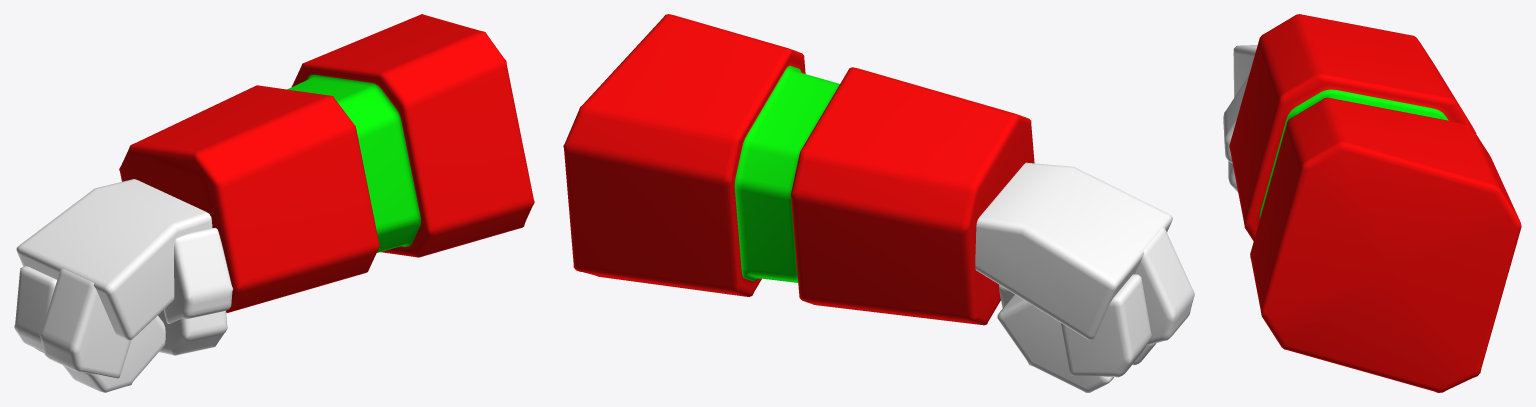
Rendered from Rabbot_LowerArmVariation_00.fbx.
The picture shows the model from 3 angles, left to right: view 1: azimuth 30°, elevation 25°; view 2: azimuth 150°, elevation 25°; view 3: azimuth 270°, elevation 25°; orthographic projection. The views are drawn at different scales.
Visible parts, largest first — view 1: Rabbot_LowerArmVariation_00; view 2: Rabbot_LowerArmVariation_00; view 3: Rabbot_LowerArmVariation_00.
Boxes of the visible parts, left/top/right/bottom form: Rabbot_LowerArmVariation_00: left=14, top=14, right=534, bottom=392; Rabbot_LowerArmVariation_00: left=563, top=14, right=1194, bottom=392; Rabbot_LowerArmVariation_00: left=1223, top=14, right=1521, bottom=392.
Size of the model in its own units: 39.71 by 18.74 by 19.17.
